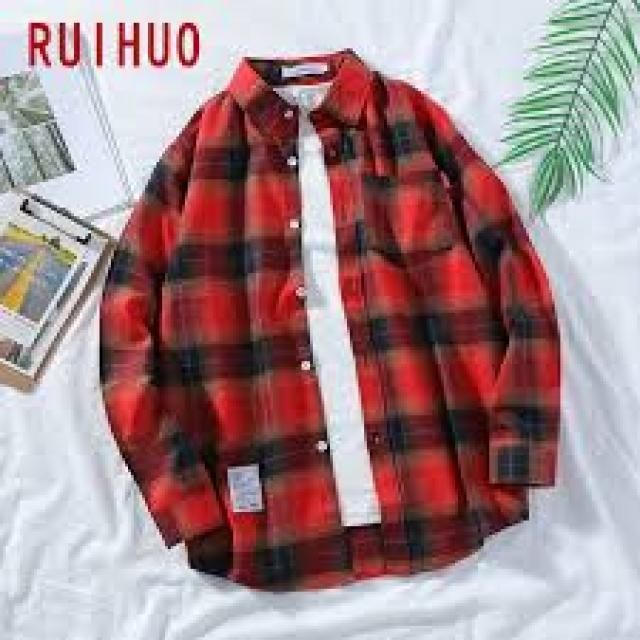plaid: (80, 57, 564, 596)
